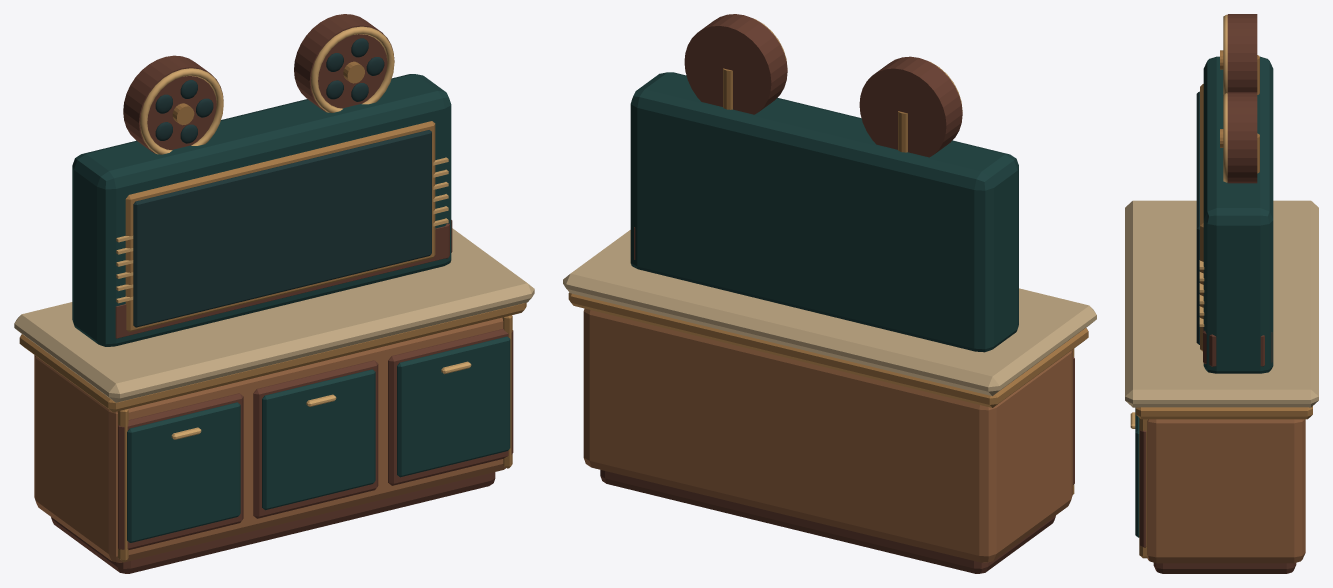
Rendered from projection.glb.
3 renders of one model, left to right at view 1: azimuth 30°, elevation 25°; view 2: azimuth 150°, elevation 25°; view 3: azimuth 270°, elevation 25°, orthographic. The views are drawn at different scales.
Parts seen in each view (by area): view 1: Projection; view 2: Projection; view 3: Projection.
Boxes of the visible parts, left/top/right/bottom form: Projection: left=14, top=14, right=534, bottom=573; Projection: left=563, top=14, right=1096, bottom=573; Projection: left=1125, top=14, right=1318, bottom=573.
Size of the model in its own units: 2.27 by 2.34 by 0.95.
